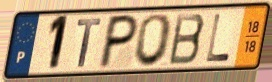1: (46, 13, 69, 74)
B: (167, 11, 207, 67)
L: (205, 12, 232, 64)
O: (131, 13, 175, 69)
P: (95, 13, 141, 71)
T: (76, 16, 103, 69)
